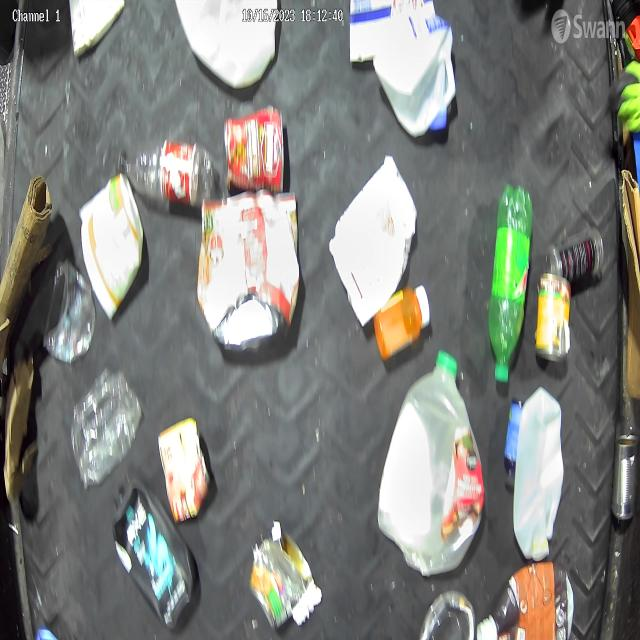can: (250, 521, 322, 632), (158, 417, 212, 523), (224, 107, 284, 194), (535, 272, 572, 362), (419, 591, 476, 640), (610, 433, 638, 521)
milk_jug: (377, 350, 485, 578), (329, 156, 416, 327), (374, 10, 456, 139), (513, 387, 565, 561), (176, 0, 278, 88)
non_white_jug: (111, 480, 197, 631), (476, 562, 574, 640)
plastic_bottle: (488, 183, 534, 382), (71, 368, 143, 488), (117, 141, 213, 208)
